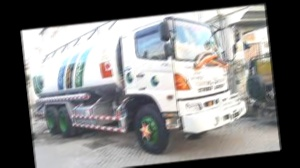truck: (31, 10, 251, 167)
